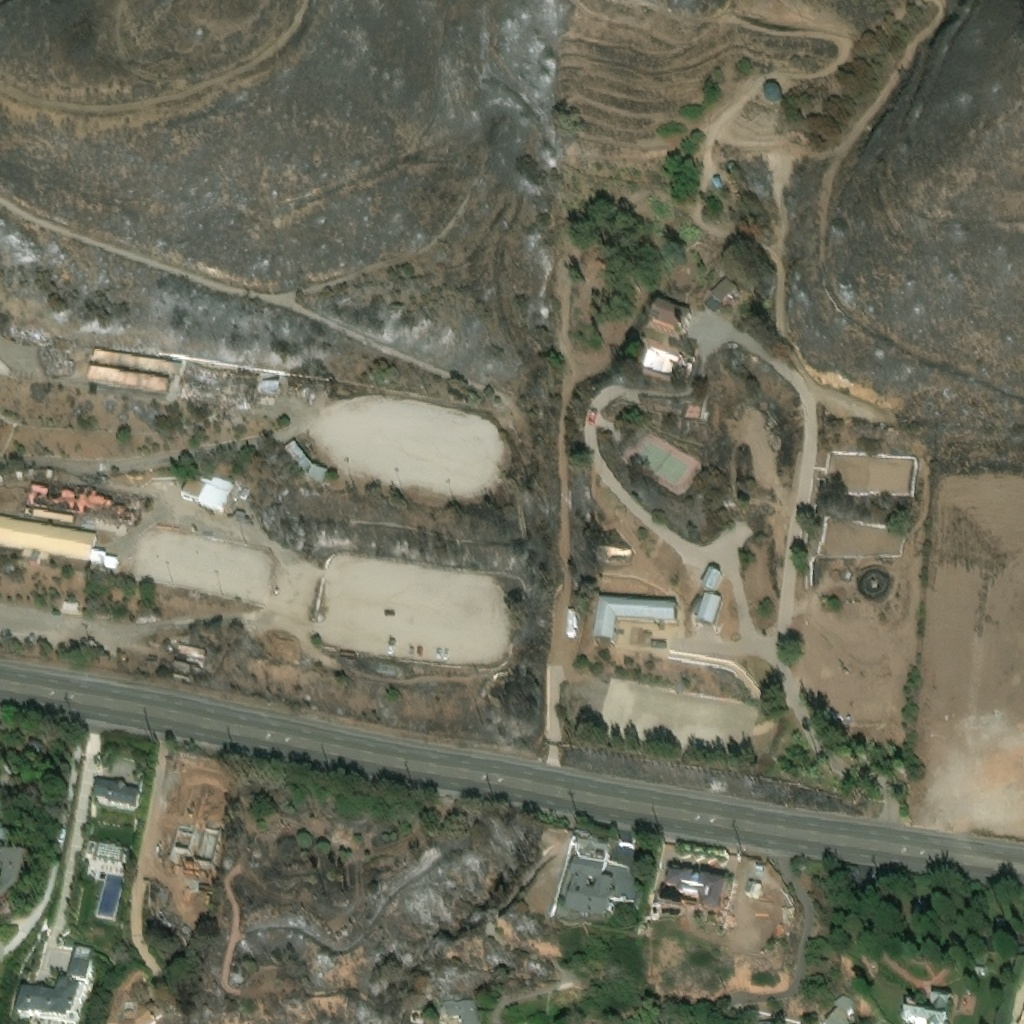0 no-damage: (560, 829, 644, 919), (0, 515, 118, 571), (591, 591, 676, 641), (15, 978, 79, 1022), (665, 869, 726, 909), (280, 441, 330, 489), (176, 469, 232, 508), (0, 847, 27, 907), (100, 734, 156, 762), (904, 989, 950, 1023), (649, 298, 691, 333), (93, 779, 140, 809), (441, 994, 482, 1023), (702, 280, 735, 314), (66, 943, 93, 982), (668, 351, 698, 384), (86, 842, 127, 864), (826, 991, 853, 1023), (22, 505, 72, 522), (695, 592, 720, 626), (699, 567, 721, 592), (172, 661, 201, 677), (177, 644, 206, 659), (763, 83, 781, 101), (744, 880, 761, 898), (60, 598, 81, 611), (565, 605, 573, 633), (28, 737, 41, 751), (231, 505, 243, 517), (235, 481, 246, 494), (0, 826, 8, 839), (712, 178, 720, 188), (43, 463, 50, 472), (994, 916, 1003, 923), (728, 162, 735, 170), (974, 966, 983, 972)
1 minor-damage: (85, 343, 179, 392)
2 major-damage: (24, 472, 137, 520), (257, 374, 278, 390)
3 destroyed: (175, 356, 259, 406), (8, 319, 49, 339), (36, 343, 62, 370), (154, 906, 179, 925), (180, 854, 211, 867), (124, 1012, 133, 1021)
